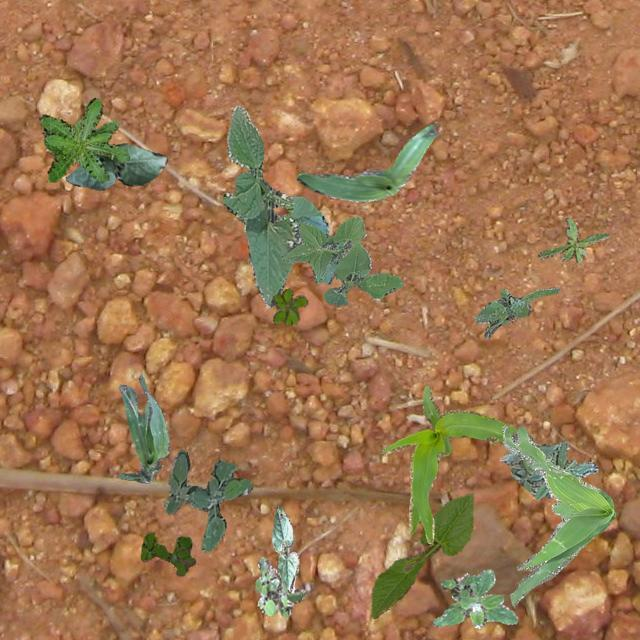crop: (379, 384, 516, 544), (222, 105, 328, 306), (370, 492, 472, 618), (296, 124, 438, 202), (118, 374, 168, 482), (64, 142, 166, 188), (270, 504, 298, 590)
weed: (502, 424, 614, 606), (280, 216, 402, 304), (164, 448, 252, 550), (38, 96, 128, 182), (498, 431, 596, 498), (432, 568, 516, 628), (474, 286, 558, 338), (536, 216, 608, 262), (254, 556, 306, 616), (140, 532, 194, 574), (272, 286, 306, 324)
